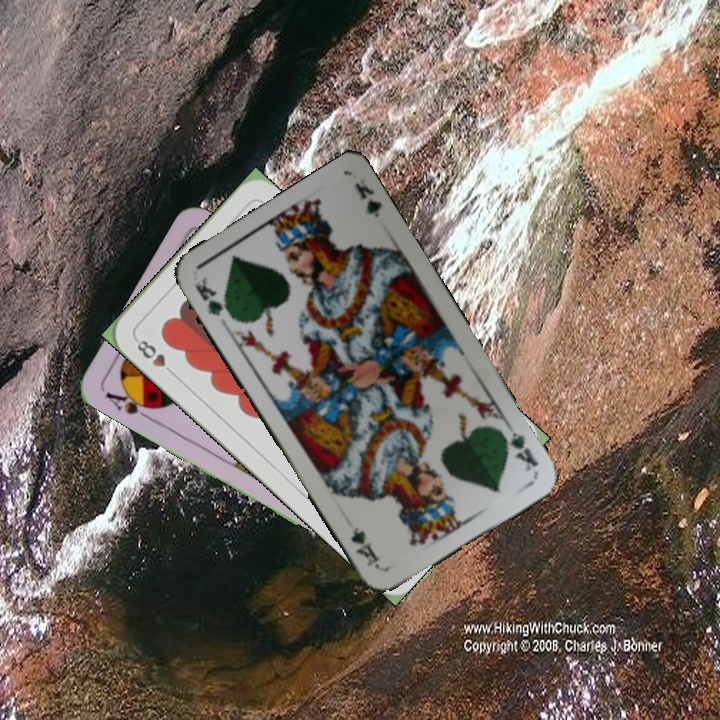GK: (496, 421, 541, 475), (191, 273, 236, 322)
H8: (131, 334, 178, 379)
SA: (101, 383, 160, 424)
